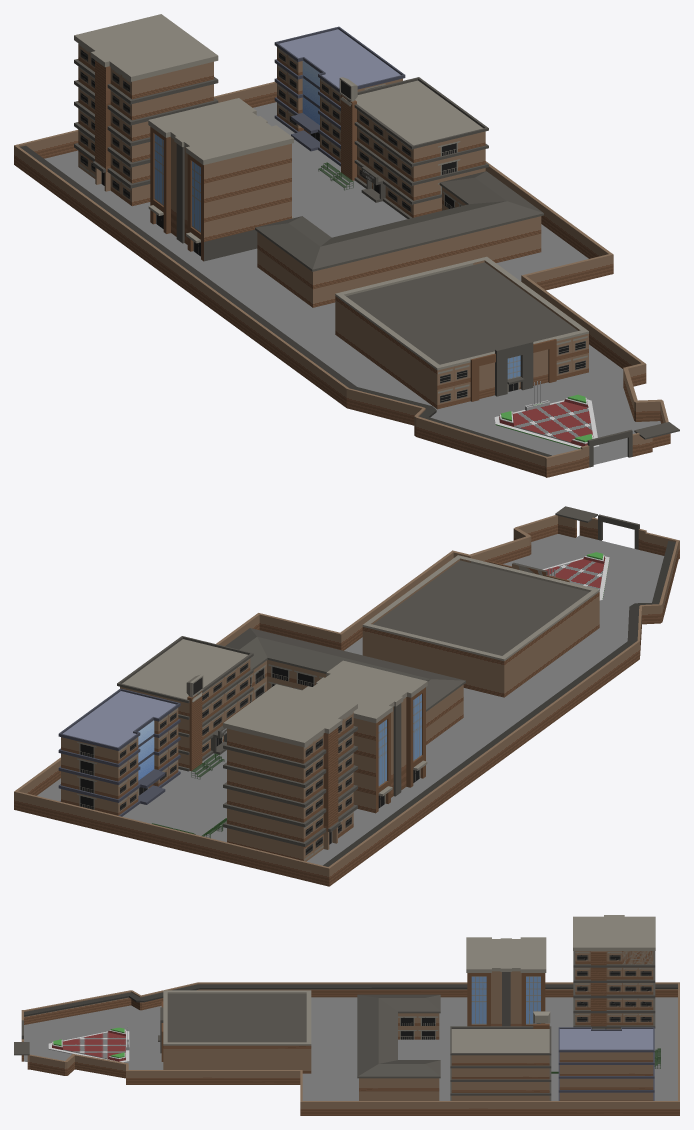
The model's file is new_qcu_map.glb.
3 renders of one model, top to bottom at view 1: azimuth 30°, elevation 25°; view 2: azimuth 150°, elevation 25°; view 3: azimuth 270°, elevation 25°, orthographic. The views are drawn at different scales.
Visible parts, largest first — view 1: wall, TechVoc, Yellow Bldg, Admin bldg, Bautista, computer lab, new acad building, Triangle; view 2: wall, TechVoc, Bautista, new acad building, Admin bldg, computer lab, Yellow Bldg, Triangle, Bleachers; view 3: wall, TechVoc, Bautista, Yellow Bldg, computer lab, new acad building, Admin bldg, Triangle.
Part boxes in pixels (x1,y1,x2,y2): wall: [14, 81, 679, 477]; TechVoc: [335, 256, 588, 409]; Yellow Bldg: [255, 171, 543, 307]; Admin bldg: [148, 98, 293, 261]; Bautista: [74, 14, 218, 206]; computer lab: [339, 77, 488, 218]; new acad building: [274, 26, 405, 166]; Triangle: [494, 381, 599, 448]; wall: [14, 506, 679, 886]; TechVoc: [362, 555, 599, 697]; Bautista: [223, 684, 357, 861]; new acad building: [58, 688, 180, 816]; Admin bldg: [302, 660, 427, 813]; computer lab: [117, 636, 253, 771]; Yellow Bldg: [225, 628, 465, 744]; Triangle: [542, 552, 609, 601]; Bleachers: [152, 753, 226, 838]; wall: [14, 982, 679, 1115]; TechVoc: [158, 990, 311, 1073]; Bautista: [573, 915, 655, 1029]; Yellow Bldg: [357, 994, 440, 1100]; computer lab: [450, 1011, 551, 1100]; new acad building: [558, 1027, 654, 1100]; Admin bldg: [466, 937, 546, 1026]; Triangle: [48, 1026, 129, 1062].
Bounding box in the file's own units: 7.28 × 2.7 × 17.14.
Materials: 7 (7 with a texture image).
